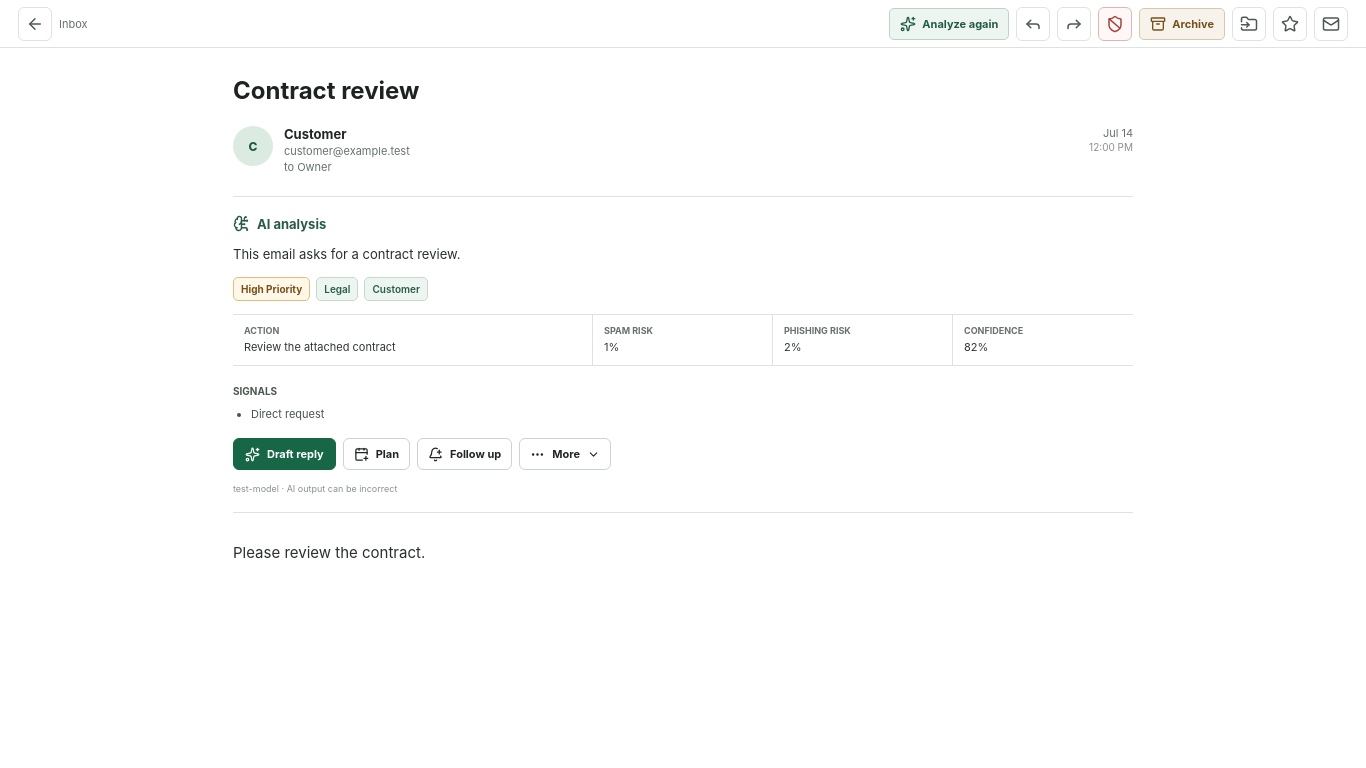
it: MessageReader AI analysis › reviews and edits an AI-recommended calendar event before creating it
The image size is (1366, 768).
Click the button with aria-label "Plan event or to-do" at (376, 454), box [343,438,410,470]
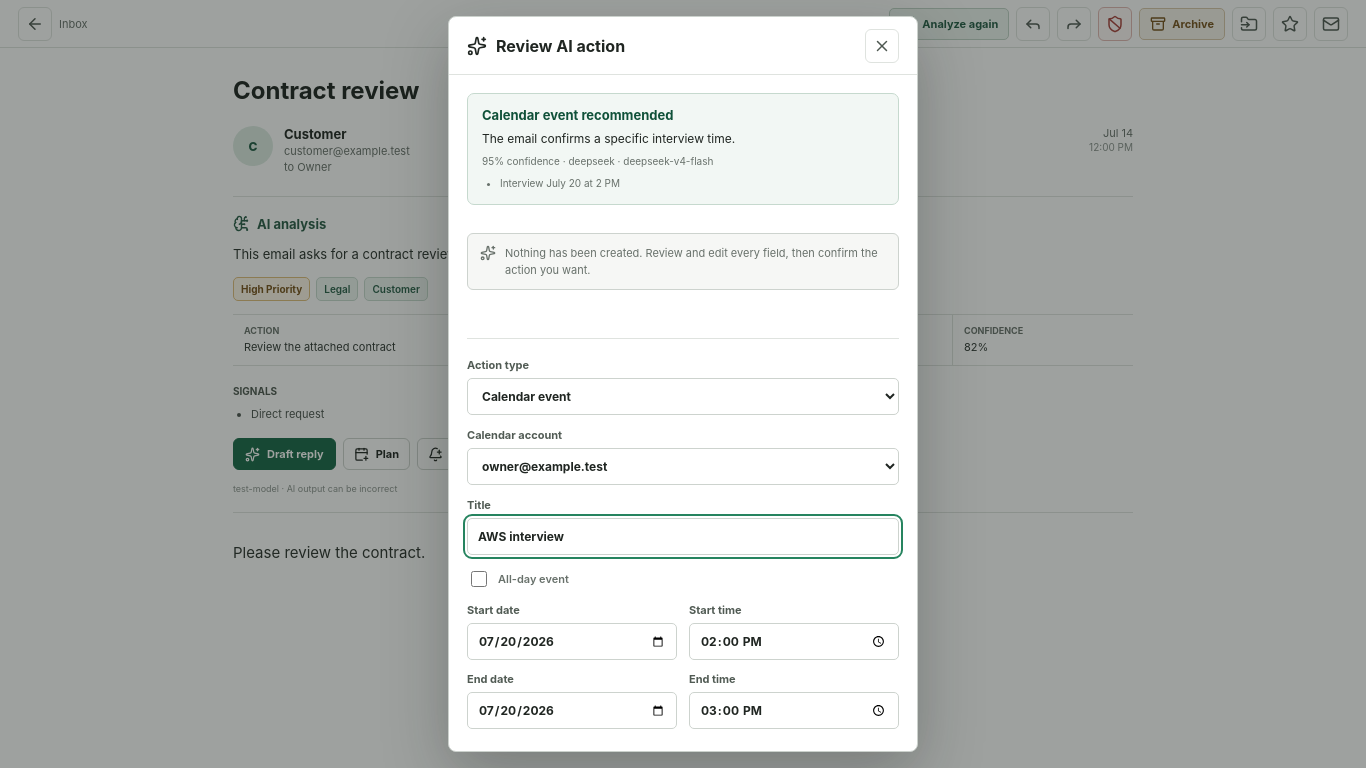
Expected: the dialog "Review AI action" is shown, [448,16,918,752]
Replace the text in the field labelled "Title" with "AWS engineering interview" at (683, 536), box [467,518,899,555]
(page scrolled)
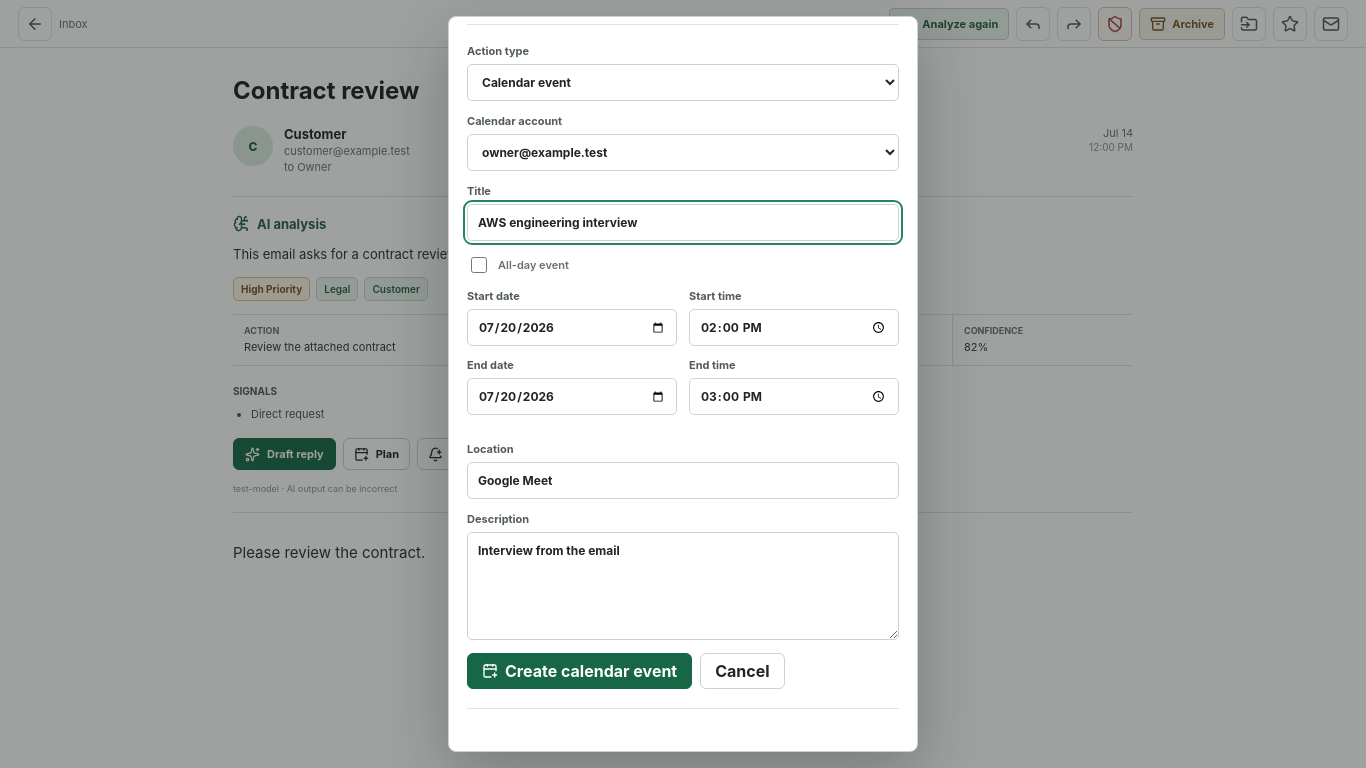
Click the button "Create calendar event" at (580, 671), box [467,653,692,689]
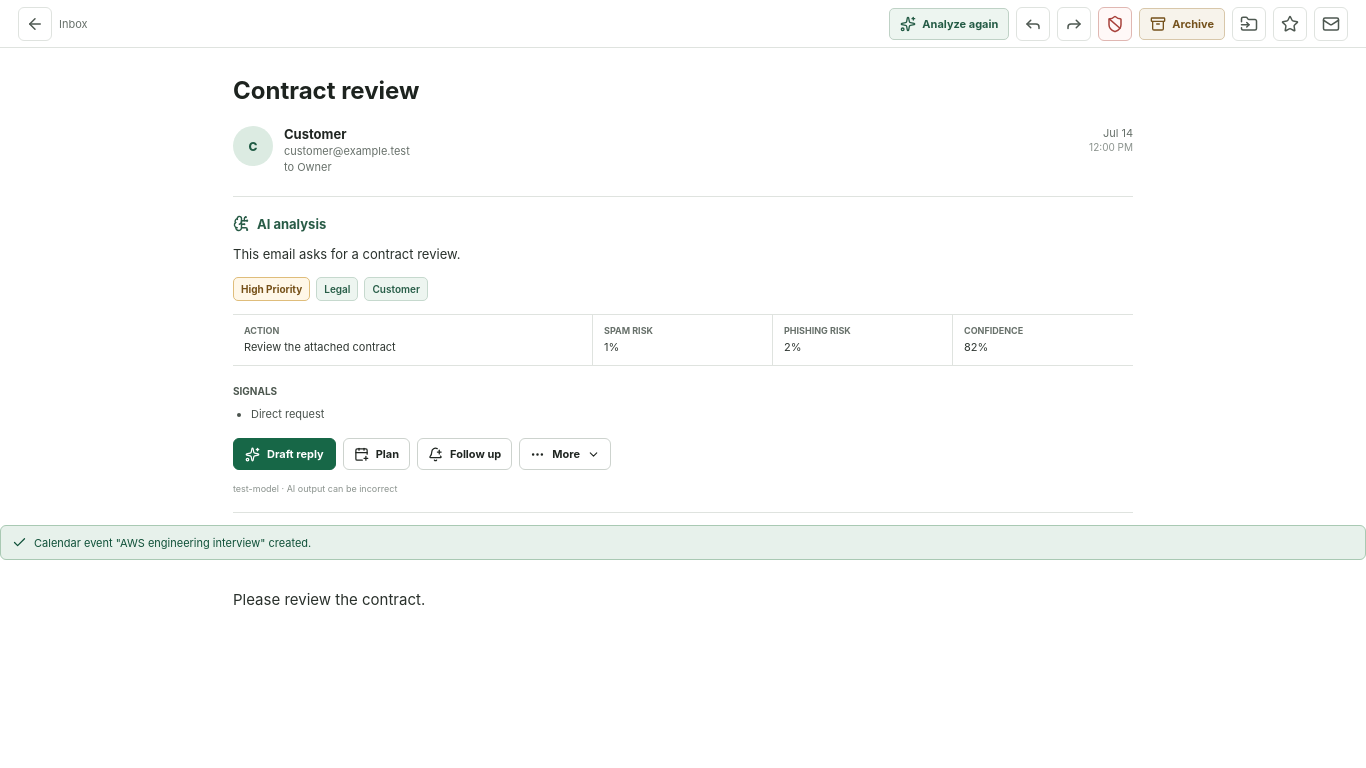
Expected: the text "Calendar event \"AWS engineering interview\" created." is shown, [0,525,1365,560]
